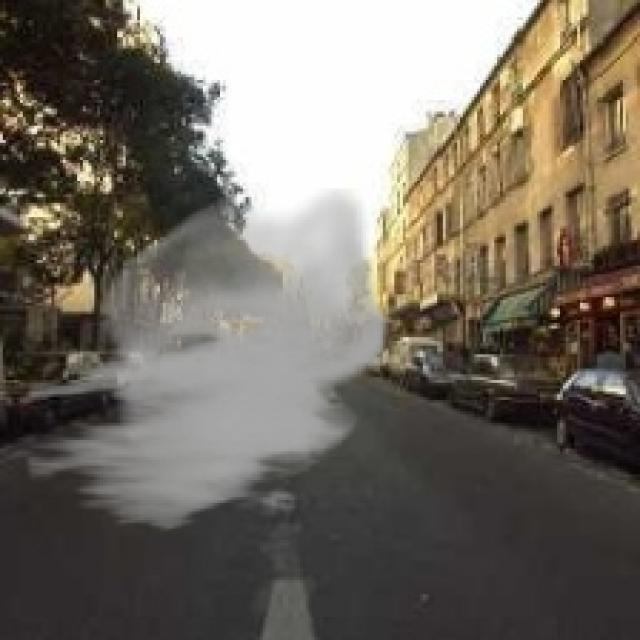Smoke: (26, 188, 388, 534)
